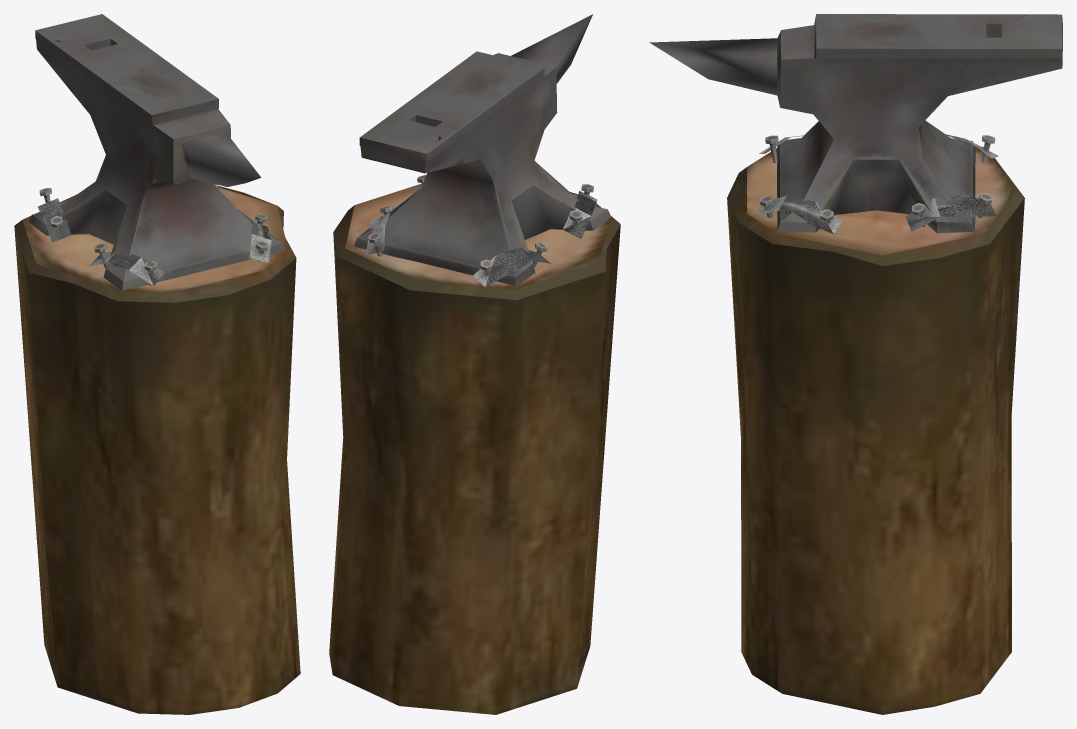
File: PRP_Anvil_lod.glb
3 views of the same model, side by side, from view 1: azimuth 30°, elevation 25°; view 2: azimuth 150°, elevation 25°; view 3: azimuth 270°, elevation 25° (orthographic). The views are drawn at different scales.
Parts seen in each view (by area): view 1: Clamps_low_AnvilMAT_0; view 2: Clamps_low_AnvilMAT_0; view 3: Clamps_low_AnvilMAT_0.
Boxes of the visible parts, x1,y1,x2,y2 form: Clamps_low_AnvilMAT_0: (14,14,300,714); Clamps_low_AnvilMAT_0: (329,14,620,714); Clamps_low_AnvilMAT_0: (649,14,1062,714).
Bounding box in the file's own units: 327 × 691 × 422.
1 material, 1 textured.
